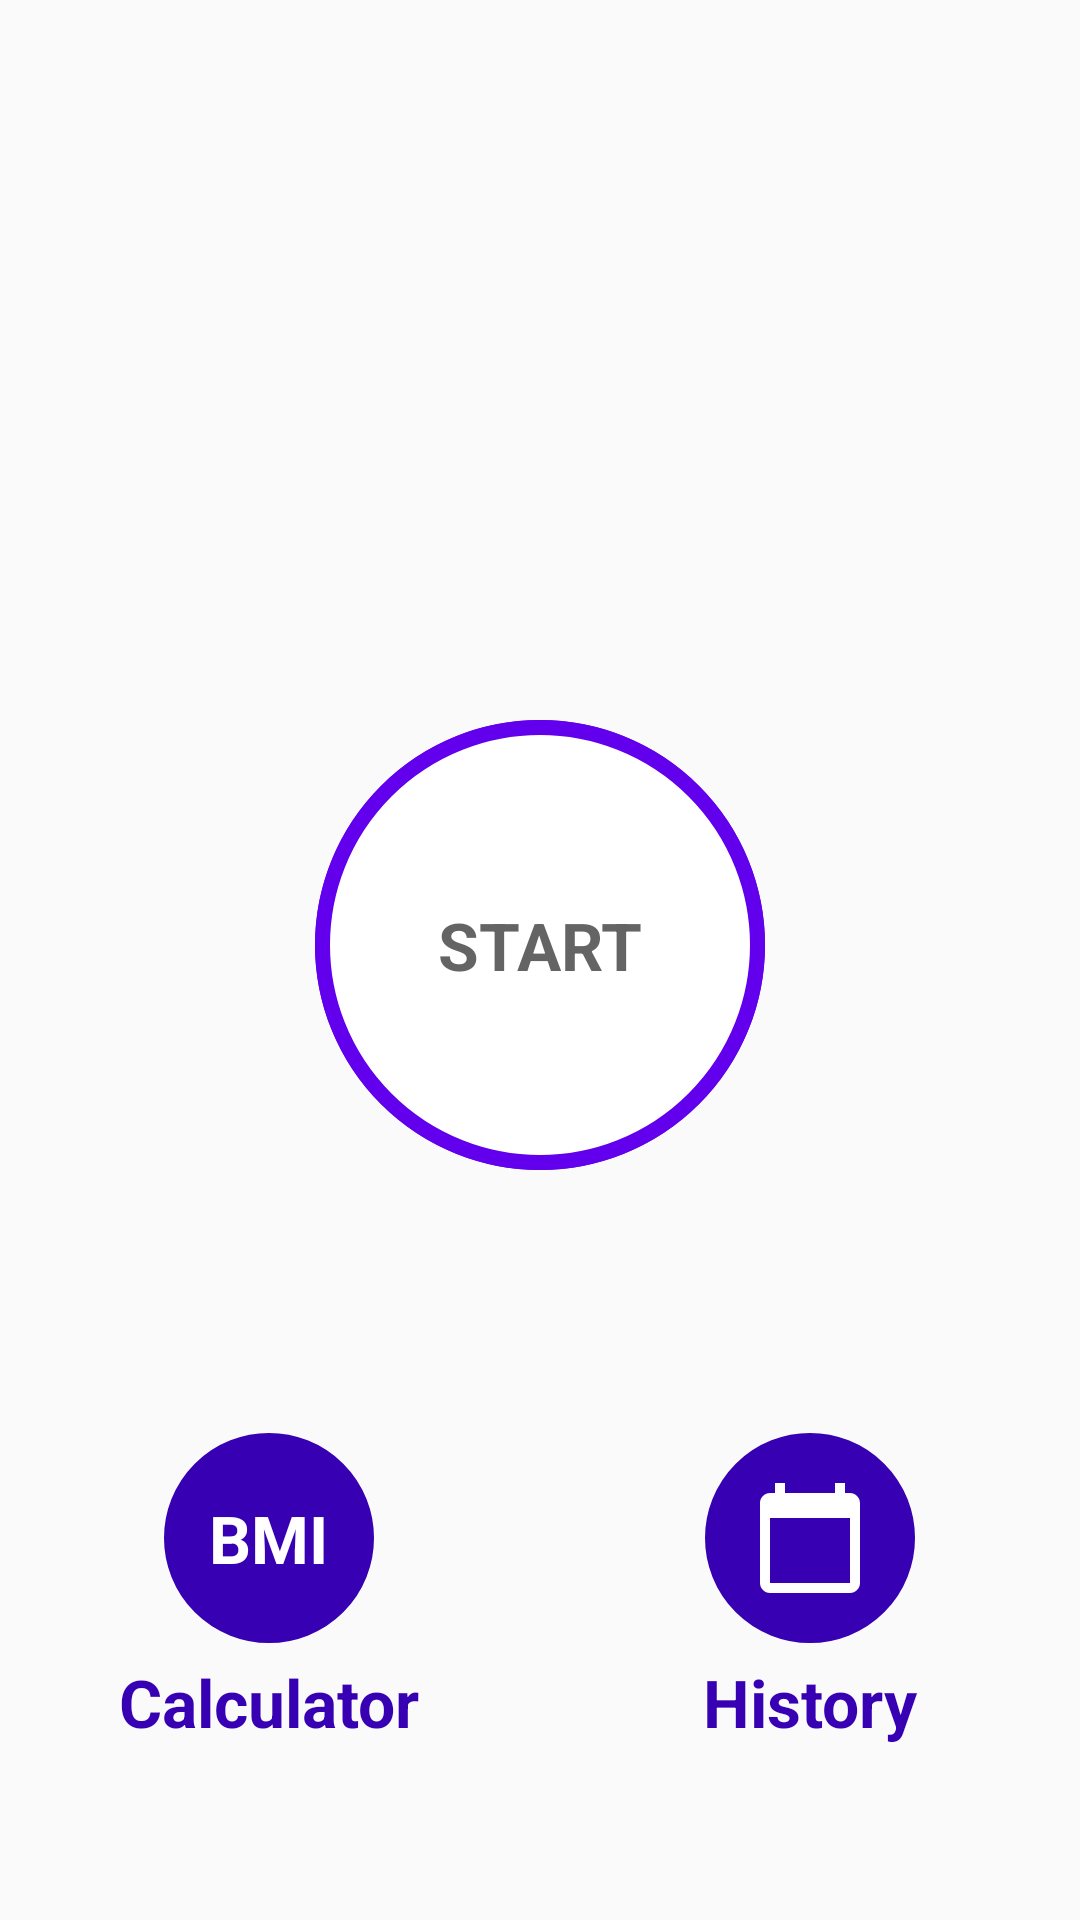

Where to tap for icons on this 1080px x 1920px app screen, as (x,y):
calendar today: (810,1538)
